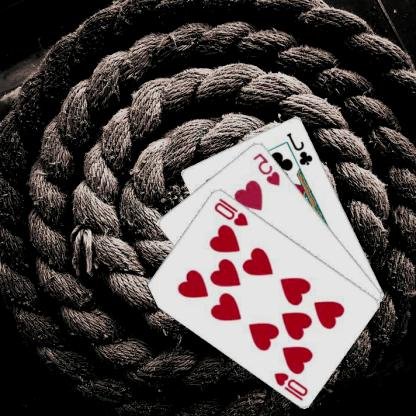10H: (213, 195, 251, 227), (273, 370, 311, 402)
5H: (252, 150, 283, 187)
JC: (286, 130, 316, 166)
